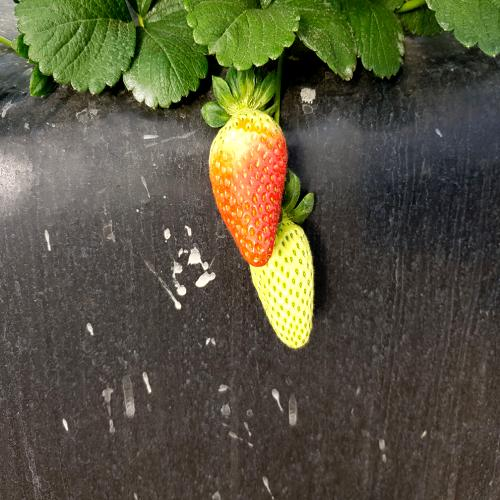ripe: (204, 118, 284, 258)
unripe: (251, 215, 320, 345)
